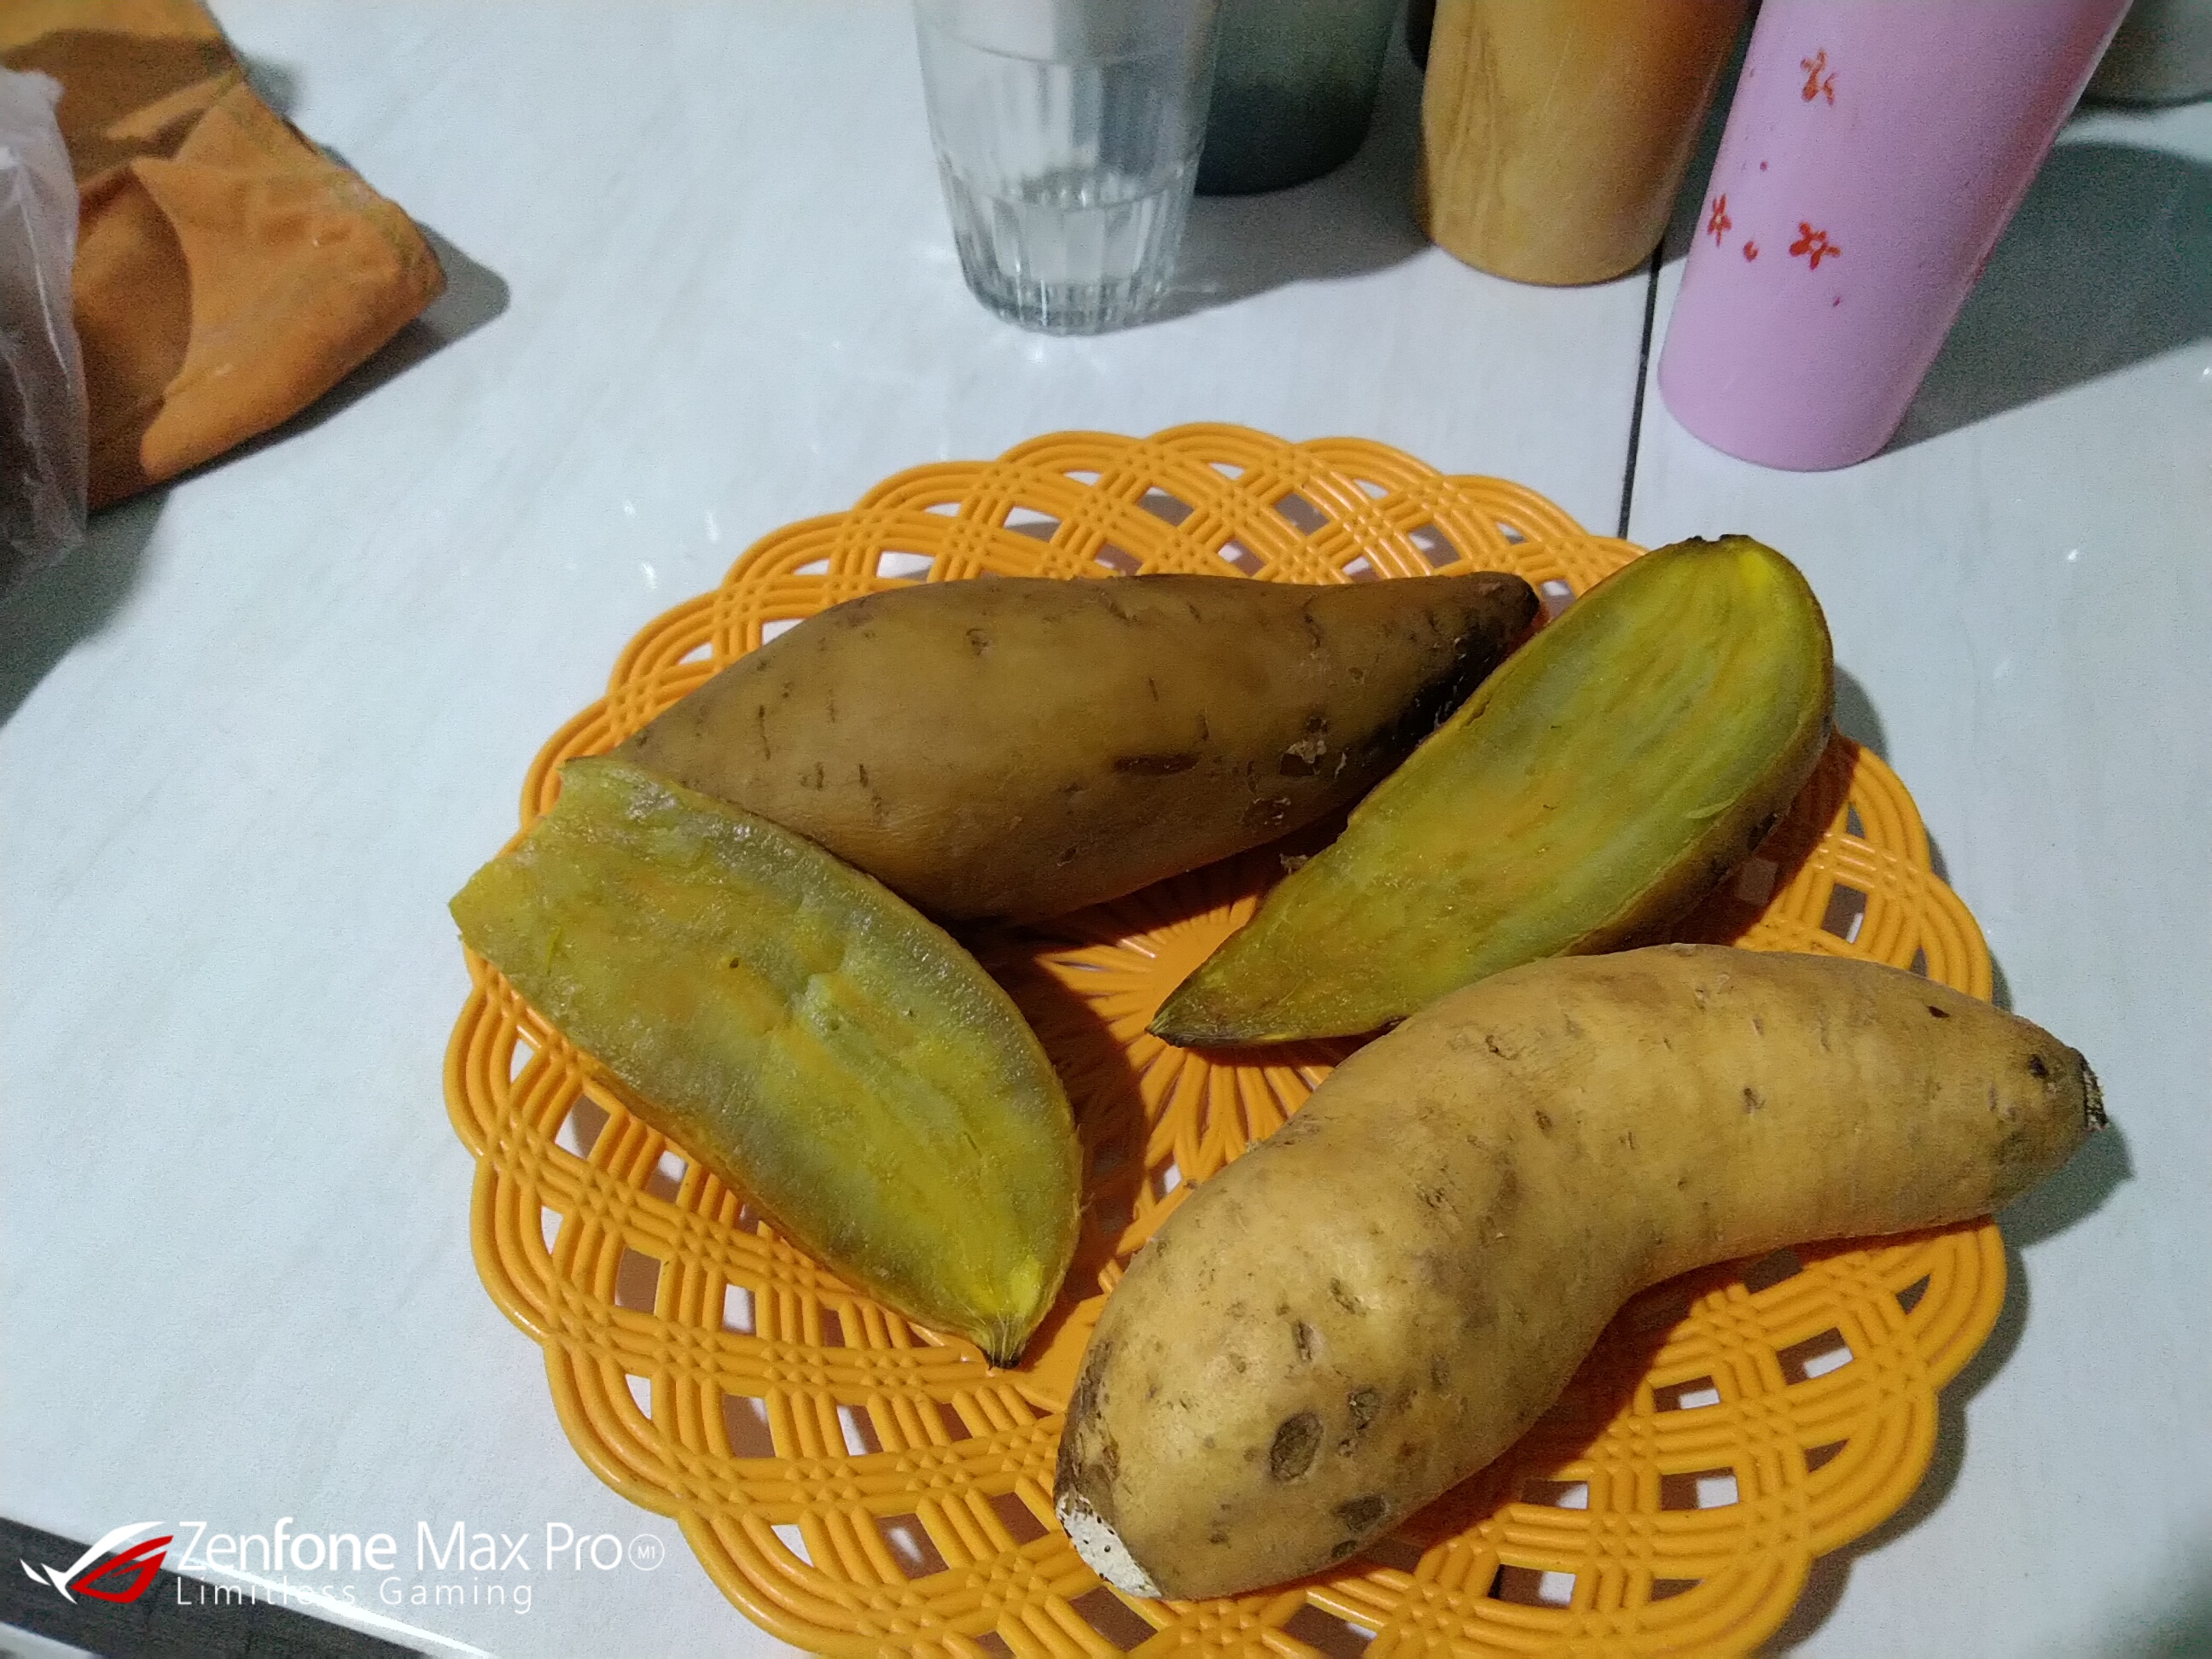ubi cilembu: (1052, 934, 2137, 1607), (1137, 493, 1879, 1065), (434, 734, 1097, 1356), (578, 545, 1552, 911)
